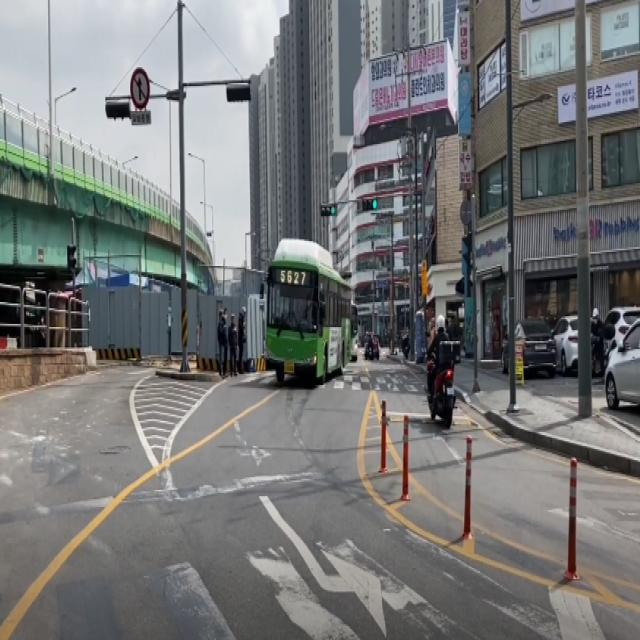bus-number: (280, 268, 306, 288)
